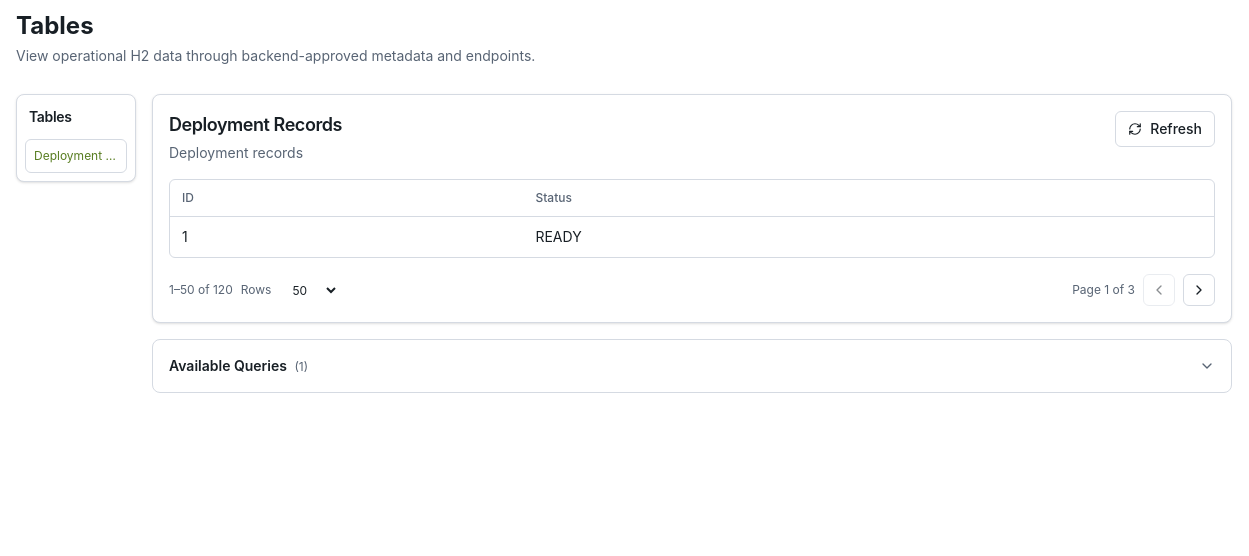
Test case: TablesPage metadata-driven queries › renders an allowed destructive descriptor through the generic query catalogue
The image size is (1249, 556).
Expected: the button "READY" is shown, [535,227,855,247]
Click the heading "Available Queries (1)". click: x=230, y=366
box: [169,357,1215,374]
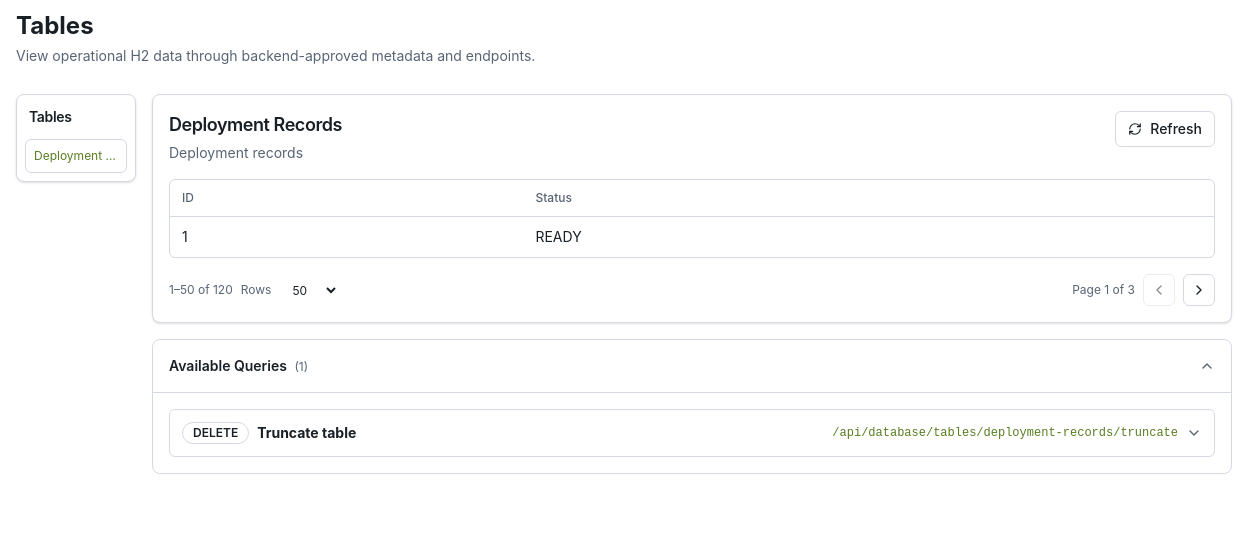
Click the text "Truncate table". click: x=307, y=433
box: [257,423,356,443]
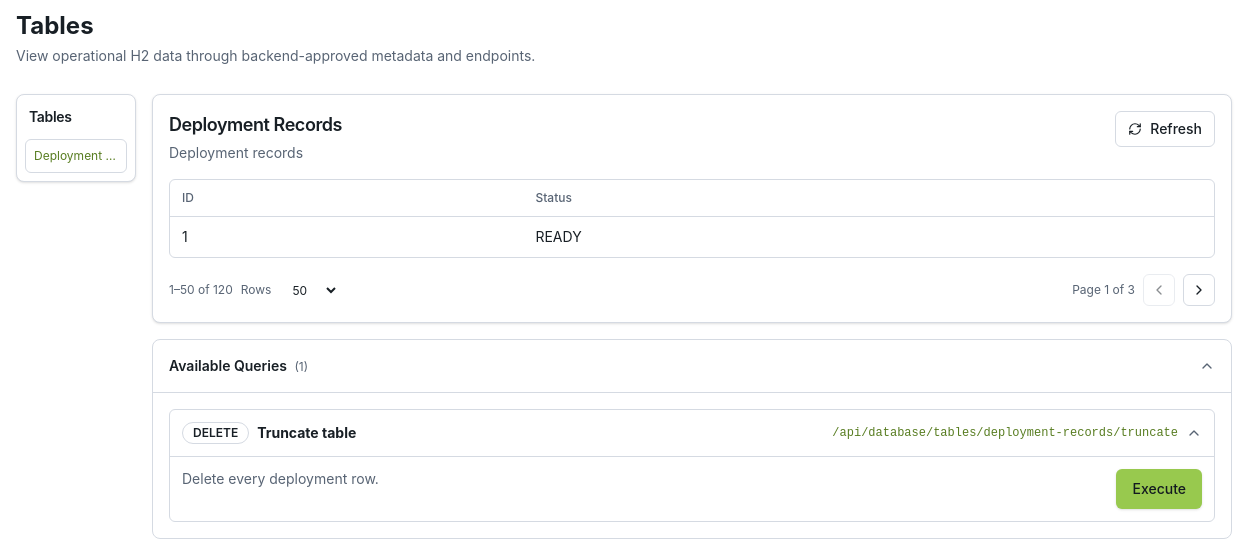
Result: the text "Delete every deployment row." is shown at [182,469,379,489]
